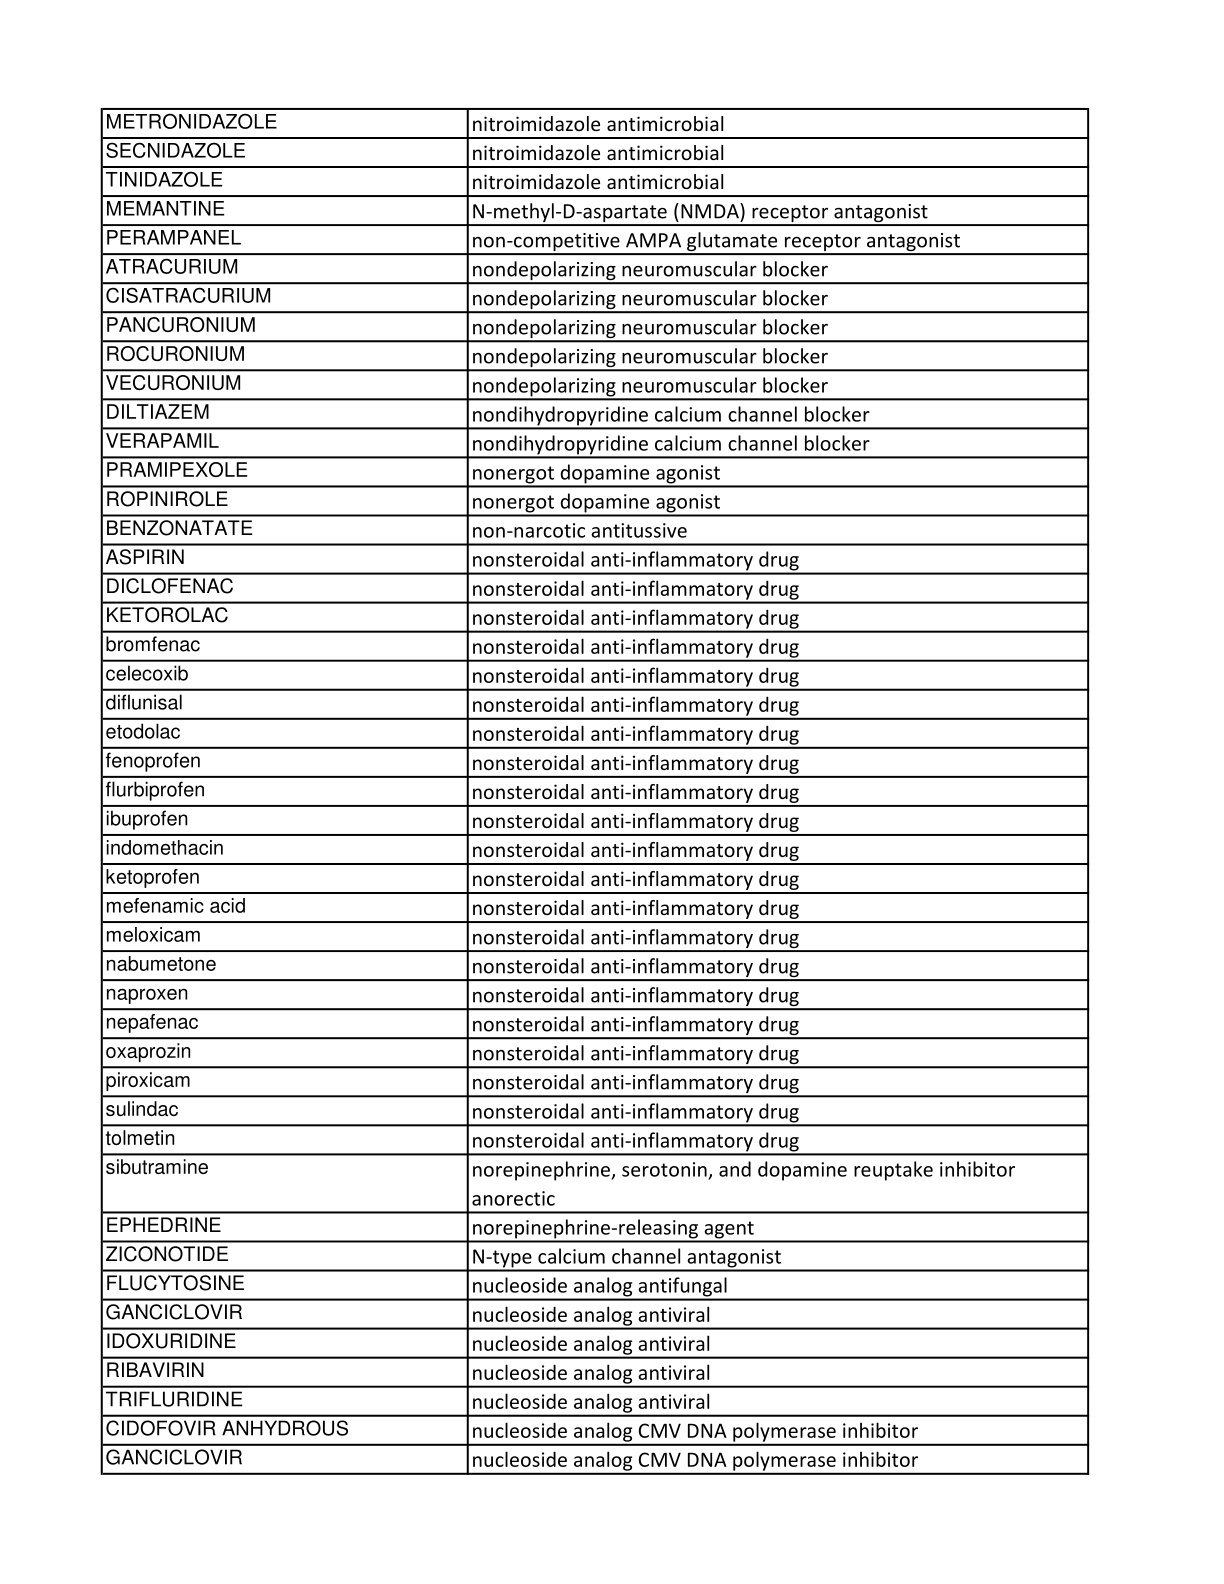full_lined: (99, 107, 1089, 1475)
